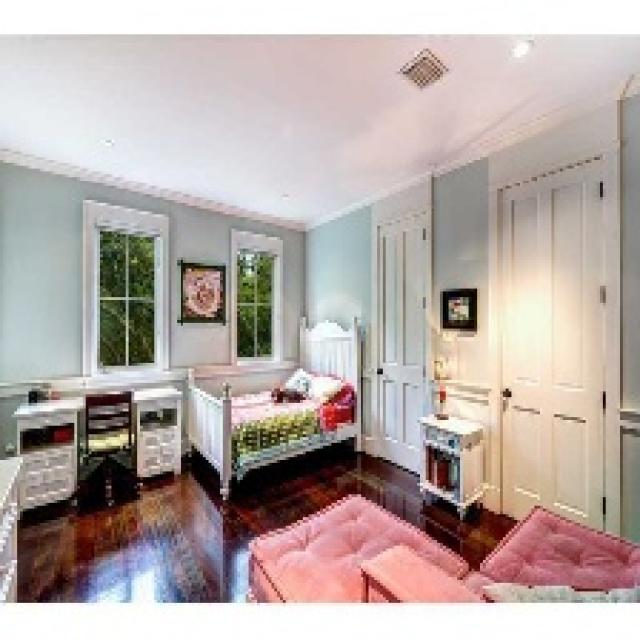Bed: (186, 314, 360, 500)
